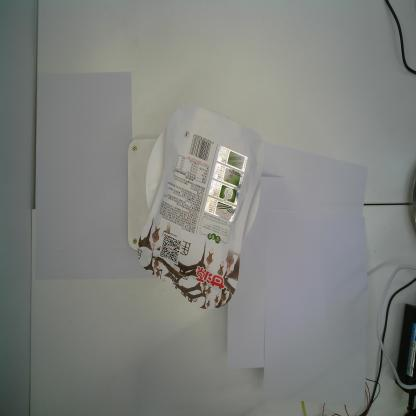Dried Fruit: (137, 106, 266, 310)
